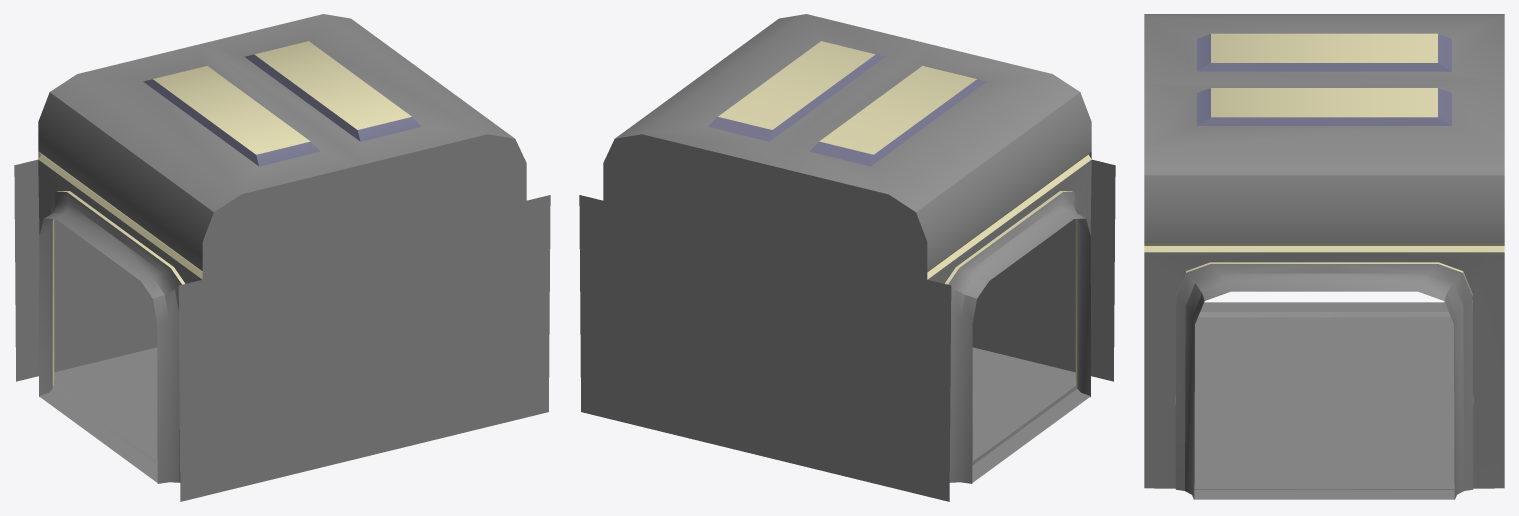
File: dis3.fbx
3 renders of one model, left to right at view 1: azimuth 30°, elevation 25°; view 2: azimuth 150°, elevation 25°; view 3: azimuth 270°, elevation 25°, orthographic. The views are drawn at different scales.
Visible parts, largest first — view 1: Cube.048; view 2: Cube.048; view 3: Cube.048.
Boxes of the visible parts, x1,y1,x2,y2 form: Cube.048: [14, 14, 550, 501]; Cube.048: [579, 14, 1115, 501]; Cube.048: [1144, 14, 1504, 499].
Bounding box in the file's own units: 399 × 306 × 305.
